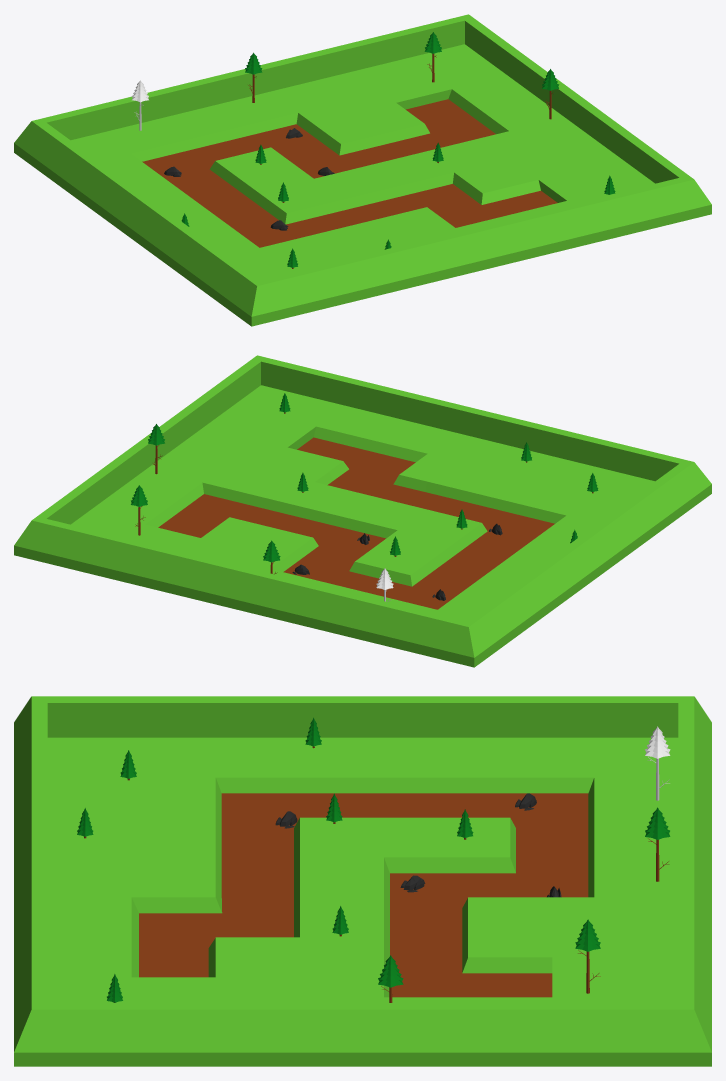
Rendered from Map1.FBX.
The picture shows the model from 3 angles, top to bottom: view 1: azimuth 30°, elevation 25°; view 2: azimuth 150°, elevation 25°; view 3: azimuth 270°, elevation 25°; orthographic projection. The views are drawn at different scales.
Visible parts, largest first — view 1: Map, Jalan; view 2: Map, Jalan; view 3: Map, Jalan, PohonLancip008, PohonLancip010, PohonLancip011.
Boxes of the visible parts, x1,y1,x2,y2 form: Map: (14, 14, 711, 326); Jalan: (142, 99, 557, 247); Map: (14, 355, 711, 667); Jalan: (158, 437, 554, 609); Map: (14, 696, 711, 1066); Jalan: (139, 793, 588, 997); PohonLancip008: (575, 919, 600, 993); PohonLancip010: (645, 807, 670, 881); PohonLancip011: (645, 726, 670, 800).
Bounding box in the file's own units: 3899 × 486 × 3485.
